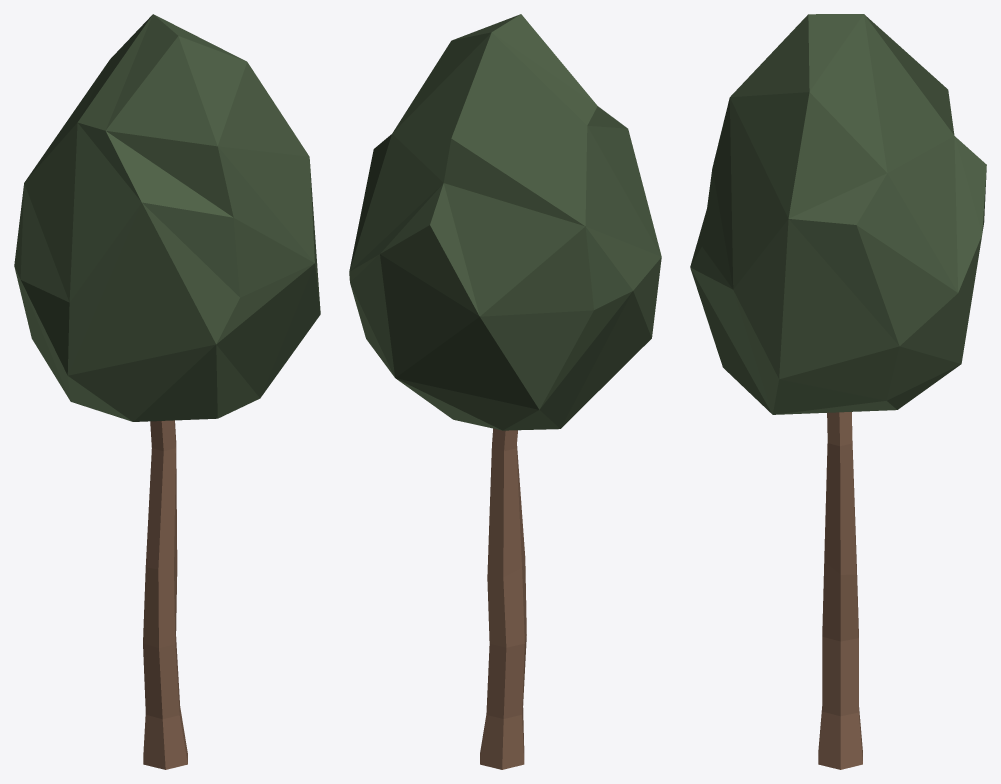
File: LowPolyTree1.fbx
3 renders of one model, left to right at view 1: azimuth 30°, elevation 25°; view 2: azimuth 150°, elevation 25°; view 3: azimuth 270°, elevation 25°, orthographic.
Parts seen in each view (by area): view 1: Leaves1, Trunk1; view 2: Leaves1, Trunk1; view 3: Leaves1, Trunk1.
Part boxes in pixels (<box>): Leaves1: <box>14,14,320,421</box>; Trunk1: <box>143,420,187,769</box>; Leaves1: <box>349,14,661,430</box>; Trunk1: <box>480,428,526,769</box>; Leaves1: <box>690,14,986,414</box>; Trunk1: <box>818,412,862,769</box>.
Size of the model in its own units: 800 by 2143 by 774.
